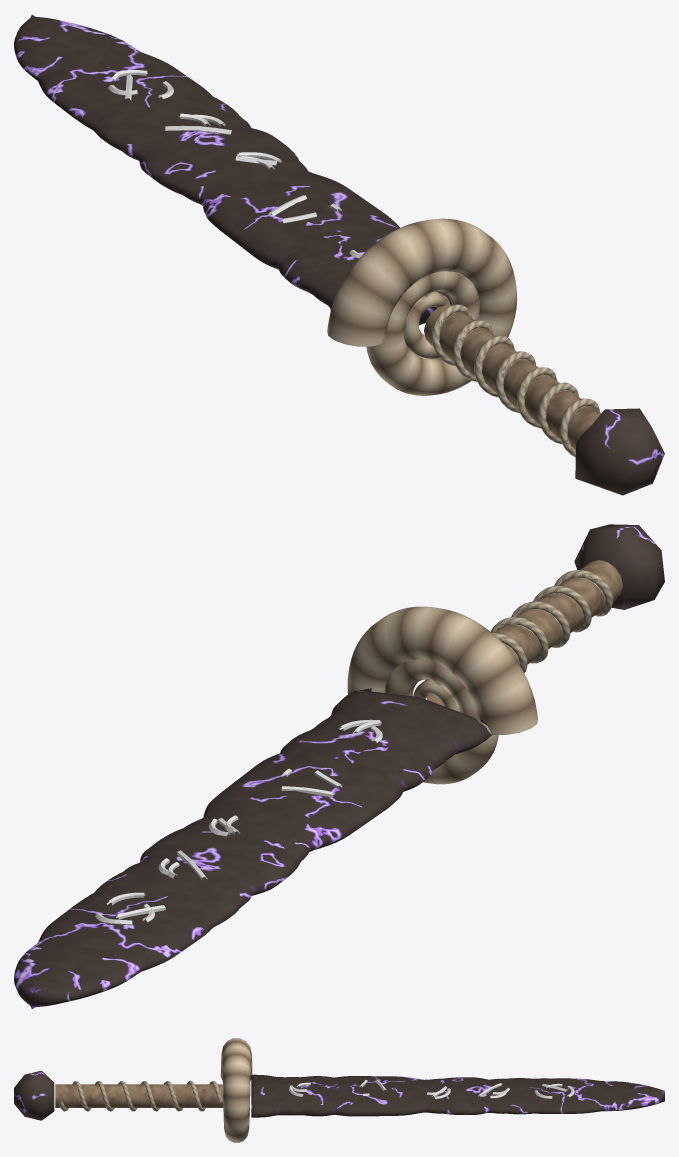
File: Sword11.fbx
The picture shows the model from 3 angles, top to bottom: view 1: azimuth 30°, elevation 25°; view 2: azimuth 150°, elevation 25°; view 3: azimuth 270°, elevation 25°; orthographic projection. The views are drawn at different scales.
Visible parts, largest first — view 1: Sword11_Body, Sword11_Glow_643cff; view 2: Sword11_Body, Sword11_Glow_643cff; view 3: Sword11_Body, Sword11_Glow_643cff.
Part boxes in pixels (x1=…): Sword11_Body: x1=14, y1=14, x2=664, y2=495; Sword11_Glow_643cff: x1=108, y1=70, x2=362, y2=258; Sword11_Body: x1=14, y1=524, x2=664, y2=1009; Sword11_Glow_643cff: x1=95, y1=719, x2=382, y2=925; Sword11_Body: x1=14, y1=1038, x2=664, y2=1142; Sword11_Glow_643cff: x1=289, y1=1079, x2=574, y2=1099.
Bounding box in the file's own units: 1.06 × 0.9565 × 6.14.
Materials: 2 (1 with a texture image).
